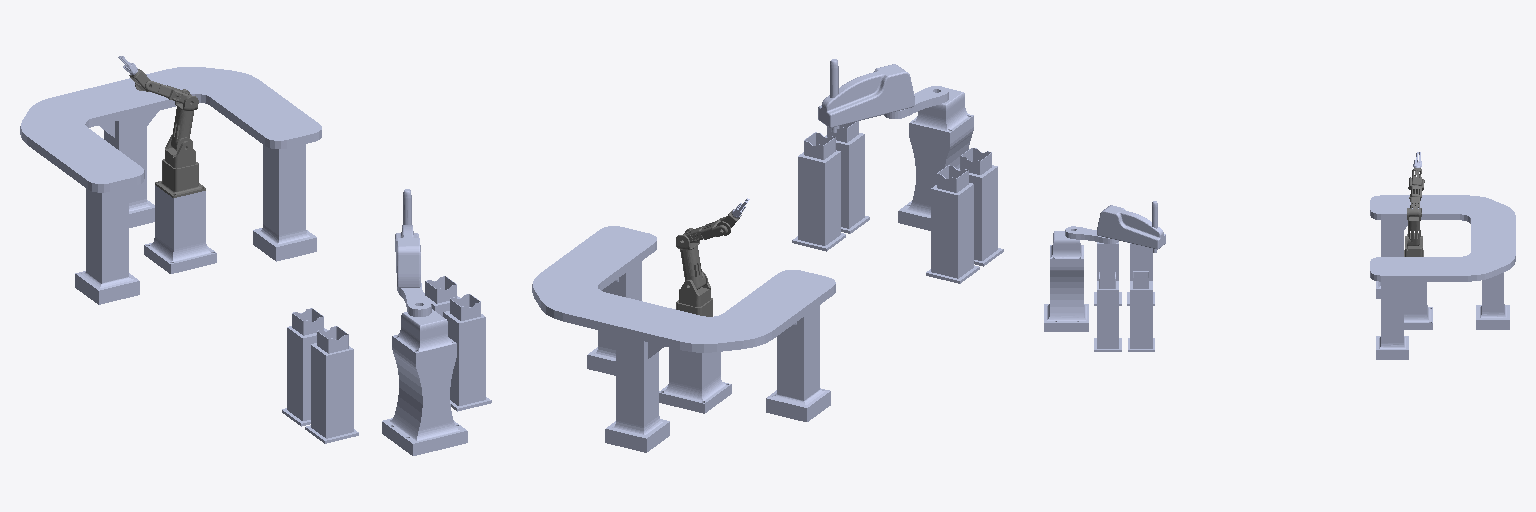
--- Render facts (derived) ---
3 views of the same robot in one strip: view 1: azimuth 30°, elevation 25°; view 2: azimuth 150°, elevation 25°; view 3: azimuth 270°, elevation 25° (orthographic).
Model gesamt_station with 15 links and 14 joints (8 revolute, 1 prismatic, 5 fixed), rooted at world_link, posed every joint at zero.
Visible links, largest first — view 1: tisch, boxes, world_link, knickarm_sockel, scara_link_base, scara_link_2, knick_base_link, knick_link2, scara_link_1, knick_link1; view 2: tisch, boxes, scara_link_2, world_link, knickarm_sockel, scara_link_base, knick_link2, scara_link_1, knick_link1; view 3: tisch, boxes, world_link, scara_link_2, knickarm_sockel, scara_link_base.
Boxes of the visible links, x1=… form: tisch: x1=20, y1=67, x2=321, y2=304; boxes: x1=282, y1=276, x2=491, y2=443; world_link: x1=382, y1=339, x2=467, y2=455; knickarm_sockel: x1=144, y1=185, x2=216, y2=273; scara_link_base: x1=392, y1=309, x2=456, y2=355; scara_link_2: x1=395, y1=225, x2=420, y2=287; knick_base_link: x1=155, y1=159, x2=205, y2=197; knick_link2: x1=171, y1=89, x2=198, y2=151; scara_link_1: x1=397, y1=283, x2=431, y2=316; knick_link1: x1=165, y1=135, x2=195, y2=168; tisch: x1=532, y1=226, x2=835, y2=452; boxes: x1=792, y1=121, x2=1003, y2=283; scara_link_2: x1=818, y1=64, x2=914, y2=127; world_link: x1=898, y1=119, x2=973, y2=230; knickarm_sockel: x1=659, y1=348, x2=731, y2=413; scara_link_base: x1=909, y1=88, x2=973, y2=135; knick_link2: x1=676, y1=228, x2=707, y2=289; scara_link_1: x1=884, y1=86, x2=948, y2=118; knick_link1: x1=679, y1=280, x2=710, y2=306; tisch: x1=1370, y1=195, x2=1515, y2=359; boxes: x1=1094, y1=242, x2=1154, y2=351; world_link: x1=1044, y1=261, x2=1088, y2=331; scara_link_2: x1=1097, y1=205, x2=1165, y2=249; knickarm_sockel: x1=1404, y1=282, x2=1432, y2=329; scara_link_base: x1=1050, y1=231, x2=1083, y2=260.
Size in the robot's own frame: 1.7 by 4.21 by 1.5 metres.
15 mesh visuals loaded from 15 distinct referenced files (15 binary STL).

robot.urdf — gesamt_station:
<?xml version="1.0" encoding="utf-8" ?>
<!-- This URDF was automatically created by SolidWorks to URDF Exporter! Originally created by Stephen Brawner ([email redacted]) 
     Commit Version: 1.6.0-4-g7f85cfe  Build Version: 1.6.7995.38578
     For more information, please see http://wiki.ros.org/sw_urdf_exporter -->
<robot name="gesamt_station">
    <link name="world_link">
        <inertial>
            <origin xyz="-0.379999991843833 -0.241999995946268 0.282642145469613" rpy="0 0 0" />
            <mass value="56.5143635061382" />
            <inertia ixx="3.10383758638064" ixy="9.38103874904234E-07" ixz="-4.57009880083242E-07" iyy="3.00109559506483" iyz="3.89931024198876E-08" izz="0.915005919197952" />
        </inertial>
        <visual>
            <origin xyz="0 0 0" rpy="0 0 0" />
            <geometry>
                <mesh filename="package://gesamt_station/meshes/world_link.STL" />
            </geometry>
            <material name="">
                <color rgba="0.792156862745098 0.819607843137255 0.933333333333333 1" />
            </material>
        </visual>
        <collision>
            <origin xyz="0 0 0" rpy="0 0 0" />
            <geometry>
                <mesh filename="package://gesamt_station/meshes/world_link.STL" />
            </geometry>
        </collision>
    </link>
    <link name="scara_link_base">
        <inertial>
            <origin xyz="4.11981024295294E-09 -0.00144952651535979 0.0824742549468586" rpy="0 0 0" />
            <mass value="10.0938987184175" />
            <inertia ixx="0.0864487528577415" ixy="-7.67600083955194E-08" ixz="-3.5428860438845E-09" iyy="0.0762174394798054" iyz="0.000783155397267453" izz="0.100368960083761" />
        </inertial>
        <visual>
            <origin xyz="0 0 0" rpy="0 0 0" />
            <geometry>
                <mesh filename="package://gesamt_station/meshes/scara_link_base.STL" />
            </geometry>
            <material name="">
                <color rgba="0.792156862745098 0.819607843137255 0.933333333333333 1" />
            </material>
        </visual>
        <collision>
            <origin xyz="0 0 0" rpy="0 0 0" />
            <geometry>
                <mesh filename="package://gesamt_station/meshes/scara_link_base.STL" />
            </geometry>
        </collision>
    </link>
    <joint name="scara_joint_base" type="fixed">
        <origin xyz="-0.38 -0.242 0.650000000000001" rpy="0 0 0" />
        <parent link="world_link" />
        <child link="scara_link_base" />
        <axis xyz="0 0 0" />
    </joint>
    <link name="scara_link_1">
        <inertial>
            <origin xyz="0.0554575444613918 0.165564551542504 0.0275000000000012" rpy="0 0 0" />
            <mass value="3.3230838247481" />
            <inertia ixx="0.0576270026353464" ixy="-0.0171642772796708" ixz="-2.98475362321264E-18" iyy="0.0119905480517804" iyz="-7.90114819276908E-18" izz="0.0679421595859383" />
        </inertial>
        <visual>
            <origin xyz="0 0 0" rpy="0 0 0" />
            <geometry>
                <mesh filename="package://gesamt_station/meshes/scara_link_1.STL" />
            </geometry>
            <material name="">
                <color rgba="0.792156862745098 0.819607843137255 0.933333333333333 1" />
            </material>
        </visual>
        <collision>
            <origin xyz="0 0 0" rpy="0 0 0" />
            <geometry>
                <mesh filename="package://gesamt_station/meshes/scara_link_1.STL" />
            </geometry>
        </collision>
    </link>
    <joint name="scara_joint_1" type="revolute">
        <origin xyz="0 0.0620000000000001 0.185999999999999" rpy="0 0 0" />
        <parent link="scara_link_base" />
        <child link="scara_link_1" />
        <axis xyz="0 0 -1" />
        <limit lower="-2.5" upper="2.5" effort="1000" velocity="20" />
        <dynamics damping="1" friction="1" />
    </joint>
    <link name="scara_link_2">
        <inertial>
            <origin xyz="0.0846237938758941 0.153636740232548 0.109919168493606" rpy="0 0 0" />
            <mass value="17.9237237949378" />
            <inertia ixx="0.486676041203974" ixy="-0.20205161891764" ixz="0.0238411475845364" iyy="0.231136918692326" iyz="0.043284241977989" izz="0.538887927908261" />
        </inertial>
        <visual>
            <origin xyz="0 0 0" rpy="0 0 0" />
            <geometry>
                <mesh filename="package://gesamt_station/meshes/scara_link_2.STL" />
            </geometry>
            <material name="">
                <color rgba="0.792156862745098 0.819607843137255 0.933333333333333 1" />
            </material>
        </visual>
        <collision>
            <origin xyz="0 0 0" rpy="0 0 0" />
            <geometry>
                <mesh filename="package://gesamt_station/meshes/scara_link_2.STL" />
            </geometry>
        </collision>
    </link>
    <joint name="scara_joint_2" type="revolute">
        <origin xyz="0.110915088922781 0.331544853874781 0.0550000000000013" rpy="0 0 0" />
        <parent link="scara_link_1" />
        <child link="scara_link_2" />
        <axis xyz="0 0 -1" />
        <limit lower="-2.5" upper="2.5" effort="1000" velocity="20" />
        <dynamics damping="1" friction="1" />
    </joint>
    <link name="scara_link_3">
        <inertial>
            <origin xyz="-5.48198860028659E-07 3.08047934466371E-07 -0.191819389863616" rpy="0 0 0" />
            <mass value="1.09878914470562" />
            <inertia ixx="0.0202026345558292" ixy="1.46163302702154E-08" ixz="-2.99029267202511E-09" iyy="0.0202026586253473" iyz="5.4617905886984E-09" izz="0.000398979796591897" />
        </inertial>
        <visual>
            <origin xyz="0 0 0" rpy="0 0 0" />
            <geometry>
                <mesh filename="package://gesamt_station/meshes/scara_link_3.STL" />
            </geometry>
            <material name="">
                <color rgba="0.792156862745098 0.819607843137255 0.933333333333333 1" />
            </material>
        </visual>
        <collision>
            <origin xyz="0 0 0" rpy="0 0 0" />
            <geometry>
                <mesh filename="package://gesamt_station/meshes/scara_link_3.STL" />
            </geometry>
        </collision>
    </link>
    <joint name="scara_joint_3" type="prismatic">
        <origin xyz="0.217106821845328 0.394163199586445 0" rpy="3.14159265358979 0 -3.14159265358979" />
        <parent link="scara_link_2" />
        <child link="scara_link_3" />
        <axis xyz="0 0 -1" />
        <limit lower="-0.2" upper="0.2" effort="1000" velocity="20" />
        <dynamics damping="1" friction="1" />
    </joint>
    <link name="boxes">
        <inertial>
            <origin xyz="0.360011118600685 0.27521364223783 0.278912194799361" rpy="0 0 0" />
            <mass value="99.0267308175771" />
            <inertia ixx="3.36896676113991" ixy="7.18898882236252E-11" ixz="-1.42061685293217E-06" iyy="3.36911900381237" iyz="-6.30751709665063E-09" izz="0.678298179608551" />
        </inertial>
        <visual>
            <origin xyz="0 0 0" rpy="0 0 0" />
            <geometry>
                <mesh filename="package://gesamt_station/meshes/boxes.STL" />
            </geometry>
            <material name="">
                <color rgba="0.792156862745098 0.819607843137255 0.933333333333333 1" />
            </material>
        </visual>
        <collision>
            <origin xyz="0 0 0" rpy="0 0 0" />
            <geometry>
                <mesh filename="package://gesamt_station/meshes/boxes.STL" />
            </geometry>
        </collision>
    </link>
    <joint name="boxes" type="fixed">
        <origin xyz="-0.719999999999999 0 0" rpy="0 0 0" />
        <parent link="world_link" />
        <child link="boxes" />
        <axis xyz="0 0 0" />
    </joint>
    <link name="knickarm_sockel">
        <inertial>
            <origin xyz="0.170000000008435 0.170000000008423 0.222253510440883" rpy="0 0 0" />
            <mass value="33.1902670854663" />
            <inertia ixx="0.969242711259421" ixy="7.48059554132024E-17" ixz="3.18870985036868E-11" iyy="0.96924271125942" iyz="3.1842986568577E-11" izz="0.397801462826718" />
        </inertial>
        <visual>
            <origin xyz="0 0 0" rpy="0 0 0" />
            <geometry>
                <mesh filename="package://gesamt_station/meshes/knickarm_sockel.STL" />
            </geometry>
            <material name="">
                <color rgba="0.792156862745098 0.819607843137255 0.933333333333333 1" />
            </material>
        </visual>
        <collision>
            <origin xyz="0 0 0" rpy="0 0 0" />
            <geometry>
                <mesh filename="package://gesamt_station/meshes/knickarm_sockel.STL" />
            </geometry>
        </collision>
    </link>
    <joint name="knickarm_sockel" type="fixed">
        <origin xyz="-0.545000000000015 2.693 -0.0199999999999988" rpy="0 0 0" />
        <parent link="world_link" />
        <child link="knickarm_sockel" />
        <axis xyz="0 0 0" />
    </joint>
    <link name="knick_base_link">
        <inertial>
            <origin xyz="5.55111512312578E-17 0 0.0831886098900351" rpy="0 0 0" />
            <mass value="6.13619139503562" />
            <inertia ixx="0.0358502952817987" ixy="1.24533695581083E-17" ixz="2.86416172023297E-18" iyy="0.0358502952817986" iyz="-3.0244319494558E-17" izz="0.0367184665537518" />
        </inertial>
        <visual>
            <origin xyz="0 0 0" rpy="0 0 0" />
            <geometry>
                <mesh filename="package://gesamt_station/meshes/knick_base_link.STL" />
            </geometry>
            <material name="">
                <color rgba="0.501960784313725 0.501960784313725 0.501960784313725 1" />
            </material>
        </visual>
        <collision>
            <origin xyz="0 0 0" rpy="0 0 0" />
            <geometry>
                <mesh filename="package://gesamt_station/meshes/knick_base_link.STL" />
            </geometry>
        </collision>
    </link>
    <joint name="knick_base_joint" type="fixed">
        <origin xyz="0.17 0.17 0.5" rpy="0 0 0" />
        <parent link="knickarm_sockel" />
        <child link="knick_base_link" />
        <axis xyz="0 0 0" />
    </joint>
    <link name="knick_link1">
        <inertial>
            <origin xyz="2.3942316775688E-05 0.0010240364179781 0.0522188072773567" rpy="0 0 0" />
            <mass value="1.51482515033565" />
            <inertia ixx="0.00708081683843717" ixy="-3.18073734412149E-05" ixz="-4.89552296679412E-07" iyy="0.00592760506272545" iyz="-3.16730446962946E-05" izz="0.0078063707821689" />
        </inertial>
        <visual>
            <origin xyz="0 0 0" rpy="0 0 0" />
            <geometry>
                <mesh filename="package://gesamt_station/meshes/knick_link1.STL" />
            </geometry>
            <material name="">
                <color rgba="0.501960784313725 0.501960784313725 0.501960784313725 1" />
            </material>
        </visual>
        <collision>
            <origin xyz="0 0 0" rpy="0 0 0" />
            <geometry>
                <mesh filename="package://gesamt_station/meshes/knick_link1.STL" />
            </geometry>
        </collision>
    </link>
    <joint name="knick_joint1" type="revolute">
        <origin xyz="0 0 0.18" rpy="0 0 0" />
        <parent link="knick_base_link" />
        <child link="knick_link1" />
        <axis xyz="0 0 1" />
        <limit lower="-3" upper="3" effort="1000" velocity="20" />
        <dynamics damping="1" friction="1" />
    </joint>
    <link name="knick_link2">
        <inertial>
            <origin xyz="-0.021142522917494 0.122626543038996 0.0617606404487137" rpy="0 0 0" />
            <mass value="2.94963537819747" />
            <inertia ixx="0.0336520017910079" ixy="0.00480666409820223" ixz="0.000200024700384919" iyy="0.00659740502339575" iyz="-0.00116007331065633" izz="0.0330918774388482" />
        </inertial>
        <visual>
            <origin xyz="0 0 0" rpy="0 0 0" />
            <geometry>
                <mesh filename="package://gesamt_station/meshes/knick_link2.STL" />
            </geometry>
            <material name="">
                <color rgba="0.501960784313725 0.501960784313725 0.501960784313725 1" />
            </material>
        </visual>
        <collision>
            <origin xyz="0 0 0" rpy="0 0 0" />
            <geometry>
                <mesh filename="package://gesamt_station/meshes/knick_link2.STL" />
            </geometry>
        </collision>
    </link>
    <joint name="knick_joint2" type="revolute">
        <origin xyz="-0.00165 -0.059977 0.13" rpy="1.5708 0 3.1141" />
        <parent link="knick_link1" />
        <child link="knick_link2" />
        <axis xyz="0 0 1" />
        <limit lower="-3" upper="3" effort="1000" velocity="20" />
        <dynamics damping="1" friction="1" />
    </joint>
    <link name="knick_link3">
        <inertial>
            <origin xyz="0.0385442987207934 0.0215860684872498 0.0473648804873257" rpy="0 0 0" />
            <mass value="0.491452097756813" />
            <inertia ixx="0.00108430376684807" ixy="-0.00066881493074745" ixz="-5.20576415471863E-05" iyy="0.00190416250100468" iyz="-2.91454550056638E-05" izz="0.00208350057092464" />
        </inertial>
        <visual>
            <origin xyz="0 0 0" rpy="0 0 0" />
            <geometry>
                <mesh filename="package://gesamt_station/meshes/knick_link3.STL" />
            </geometry>
            <material name="">
                <color rgba="0.501960784313725 0.501960784313725 0.501960784313725 1" />
            </material>
        </visual>
        <collision>
            <origin xyz="0 0 0" rpy="0 0 0" />
            <geometry>
                <mesh filename="package://gesamt_station/meshes/knick_link3.STL" />
            </geometry>
        </collision>
    </link>
    <joint name="knick_joint3" type="revolute">
        <origin xyz="-0.050962 0.29564 0.02" rpy="0 0 0" />
        <parent link="knick_link2" />
        <child link="knick_link3" />
        <axis xyz="0 0 1" />
        <limit lower="-3" upper="3" effort="1000" velocity="20" />
        <dynamics damping="1" friction="1" />
    </joint>
    <link name="knick_link4">
        <inertial>
            <origin xyz="-0.00513257751218577 1.93842140377987E-05 0.089601691075946" rpy="0 0 0" />
            <mass value="0.988047531983828" />
            <inertia ixx="0.00392312922711544" ixy="-0.000211641721419239" ixz="6.93612993874141E-06" iyy="0.00493995110019075" iyz="1.38599905093569E-06" izz="0.00182866824078614" />
        </inertial>
        <visual>
            <origin xyz="0 0 0" rpy="0 0 0" />
            <geometry>
                <mesh filename="package://gesamt_station/meshes/knick_link4.STL" />
            </geometry>
            <material name="">
                <color rgba="0.501960784313725 0.501960784313725 0.501960784313725 1" />
            </material>
        </visual>
        <collision>
            <origin xyz="0 0 0" rpy="0 0 0" />
            <geometry>
                <mesh filename="package://gesamt_station/meshes/knick_link4.STL" />
            </geometry>
        </collision>
    </link>
    <joint name="knick_joint4" type="revolute">
        <origin xyz="0.13566 0.074989 0.052879" rpy="-0.64552 1.5708 -0.1368" />
        <parent link="knick_link3" />
        <child link="knick_link4" />
        <axis xyz="0 0 1" />
        <limit lower="-3" upper="3" effort="1000" velocity="20" />
        <dynamics damping="1" friction="1" />
    </joint>
    <link name="knick_link5">
        <inertial>
            <origin xyz="0.0266367824589312 0.0366715425188819 0.0495352283685504" rpy="0 0 0" />
            <mass value="0.318238787284193" />
            <inertia ixx="0.000929281613161211" ixy="-0.000325349531400443" ixz="9.02207432215664E-05" iyy="0.000717311319742547" iyz="0.000124868109639798" izz="0.00106271677349239" />
        </inertial>
        <visual>
            <origin xyz="0 0 0" rpy="0 0 0" />
            <geometry>
                <mesh filename="package://gesamt_station/meshes/knick_link5.STL" />
            </geometry>
            <material name="">
                <color rgba="0.501960784313725 0.501960784313725 0.501960784313725 1" />
            </material>
        </visual>
        <collision>
            <origin xyz="0 0 0" rpy="0 0 0" />
            <geometry>
                <mesh filename="package://gesamt_station/meshes/knick_link5.STL" />
            </geometry>
        </collision>
    </link>
    <joint name="knick_joint5" type="revolute">
        <origin xyz="0.038108 0.0086602 0.185" rpy="1.5708 -1.0518 -1.3736" />
        <parent link="knick_link4" />
        <child link="knick_link5" />
        <axis xyz="0 0 1" />
        <limit lower="-3" upper="3" effort="1000" velocity="20" />
        <dynamics damping="1" friction="1" />
    </joint>
    <link name="knick_link6">
        <inertial>
            <origin xyz="-8.48162570044053E-06 2.2723349570708E-05 0.0451830697662174" rpy="0 0 0" />
            <mass value="0.226630438998703" />
            <inertia ixx="0.000131785688778719" ixy="-1.30376859202504E-05" ixz="-3.26860597195842E-09" iyy="0.00016180598264974" iyz="8.86345733292512E-09" izz="0.000104997317640663" />
        </inertial>
        <visual>
            <origin xyz="0 0 0" rpy="0 0 0" />
            <geometry>
                <mesh filename="package://gesamt_station/meshes/knick_link6.STL" />
            </geometry>
            <material name="">
                <color rgba="0.792156862745098 0.819607843137255 0.933333333333333 1" />
            </material>
        </visual>
        <collision>
            <origin xyz="0 0 0" rpy="0 0 0" />
            <geometry>
                <mesh filename="package://gesamt_station/meshes/knick_link6.STL" />
            </geometry>
        </collision>
    </link>
    <joint name="knick_joint6" type="revolute">
        <origin xyz="0.073384 0.10119 0.039" rpy="-1.5708 1.2834 -0.62744" />
        <parent link="knick_link5" />
        <child link="knick_link6" />
        <axis xyz="0 0 1" />
        <limit lower="-3" upper="3" effort="1000" velocity="20" />
        <dynamics damping="1" friction="1" />
    </joint>
    <link name="tisch">
        <inertial>
            <origin xyz="0.554578158490949 -0.799963383698616 -0.555432079650678" rpy="0 0 0" />
            <mass value="196.024047141799" />
            <inertia ixx="93.491119860336" ixy="0.00404601238855291" ixz="5.48928916661912" iyy="52.7454966298556" iyz="-0.00301088189840725" izz="75.7815479417874" />
        </inertial>
        <visual>
            <origin xyz="0 0 0" rpy="0 0 0" />
            <geometry>
                <mesh filename="package://gesamt_station/meshes/tisch.STL" />
            </geometry>
            <material name="">
                <color rgba="0.792156862745098 0.819607843137255 0.933333333333333 1" />
            </material>
        </visual>
        <collision>
            <origin xyz="0 0 0" rpy="0 0 0" />
            <geometry>
                <mesh filename="package://gesamt_station/meshes/tisch.STL" />
            </geometry>
        </collision>
    </link>
    <joint name="tisch" type="fixed">
        <origin xyz="-1.17 2.523 -0.0199999999999989" rpy="1.5707963267949 -1.5707963267949 0" />
        <parent link="world_link" />
        <child link="tisch" />
        <axis xyz="0 0 0" />
    </joint>
    <transmission name="trans_scara_joint_1">
        <type>transmission_interface/SimpleTransmission</type>
        <joint name="scara_joint_1">
            <hardwareInterface>hardware_interface/PositionJointInterface</hardwareInterface>
        </joint>
        <actuator name="scara_joint_1_motor">
            <hardwareInterface>hardware_interface/PositionJointInterface</hardwareInterface>
            <mechanicalReduction>1</mechanicalReduction>
        </actuator>
    </transmission>
    <transmission name="trans_scara_joint_2">
        <type>transmission_interface/SimpleTransmission</type>
        <joint name="scara_joint_2">
            <hardwareInterface>hardware_interface/PositionJointInterface</hardwareInterface>
        </joint>
        <actuator name="scara_joint_2_motor">
            <hardwareInterface>hardware_interface/PositionJointInterface</hardwareInterface>
            <mechanicalReduction>1</mechanicalReduction>
        </actuator>
    </transmission>
    <transmission name="trans_scara_joint_3">
        <type>transmission_interface/SimpleTransmission</type>
        <joint name="scara_joint_3">
            <hardwareInterface>hardware_interface/PositionJointInterface</hardwareInterface>
        </joint>
        <actuator name="scara_joint_3_motor">
            <hardwareInterface>hardware_interface/PositionJointInterface</hardwareInterface>
            <mechanicalReduction>1</mechanicalReduction>
        </actuator>
    </transmission>
    <transmission name="trans_knick_joint1">
        <type>transmission_interface/SimpleTransmission</type>
        <joint name="knick_joint1">
            <hardwareInterface>hardware_interface/PositionJointInterface</hardwareInterface>
        </joint>
        <actuator name="knick_joint1_motor">
            <hardwareInterface>hardware_interface/PositionJointInterface</hardwareInterface>
            <mechanicalReduction>1</mechanicalReduction>
        </actuator>
    </transmission>
    <transmission name="trans_knick_joint2">
        <type>transmission_interface/SimpleTransmission</type>
        <joint name="knick_joint2">
            <hardwareInterface>hardware_interface/PositionJointInterface</hardwareInterface>
        </joint>
        <actuator name="knick_joint2_motor">
            <hardwareInterface>hardware_interface/PositionJointInterface</hardwareInterface>
            <mechanicalReduction>1</mechanicalReduction>
        </actuator>
    </transmission>
    <transmission name="trans_knick_joint3">
        <type>transmission_interface/SimpleTransmission</type>
        <joint name="knick_joint3">
            <hardwareInterface>hardware_interface/PositionJointInterface</hardwareInterface>
        </joint>
        <actuator name="knick_joint3_motor">
            <hardwareInterface>hardware_interface/PositionJointInterface</hardwareInterface>
            <mechanicalReduction>1</mechanicalReduction>
        </actuator>
    </transmission>
    <transmission name="trans_knick_joint4">
        <type>transmission_interface/SimpleTransmission</type>
        <joint name="knick_joint4">
            <hardwareInterface>hardware_interface/PositionJointInterface</hardwareInterface>
        </joint>
        <actuator name="knick_joint4_motor">
            <hardwareInterface>hardware_interface/PositionJointInterface</hardwareInterface>
            <mechanicalReduction>1</mechanicalReduction>
        </actuator>
    </transmission>
    <transmission name="trans_knick_joint5">
        <type>transmission_interface/SimpleTransmission</type>
        <joint name="knick_joint5">
            <hardwareInterface>hardware_interface/PositionJointInterface</hardwareInterface>
        </joint>
        <actuator name="knick_joint5_motor">
            <hardwareInterface>hardware_interface/PositionJointInterface</hardwareInterface>
            <mechanicalReduction>1</mechanicalReduction>
        </actuator>
    </transmission>
    <transmission name="trans_knick_joint6">
        <type>transmission_interface/SimpleTransmission</type>
        <joint name="knick_joint6">
            <hardwareInterface>hardware_interface/PositionJointInterface</hardwareInterface>
        </joint>
        <actuator name="knick_joint6_motor">
            <hardwareInterface>hardware_interface/PositionJointInterface</hardwareInterface>
            <mechanicalReduction>1</mechanicalReduction>
        </actuator>
    </transmission>
    <gazebo>
        <plugin name="control" filename="libgazebo_ros_control.so">
        </plugin>
    </gazebo>
    <gazebo>
        <plugin name = "joint_state_publisher" filename = "libgazebo_ros_joint_state_publisher.so" >
		<jointName>scara_joint_1, scara_joint_2, scara_joint_3, knick_joint1, knick_joint2, knick_joint3, knick_joint4, knick_joint5, knick_joint6</jointName>
        </plugin>
    </gazebo>
</robot>
